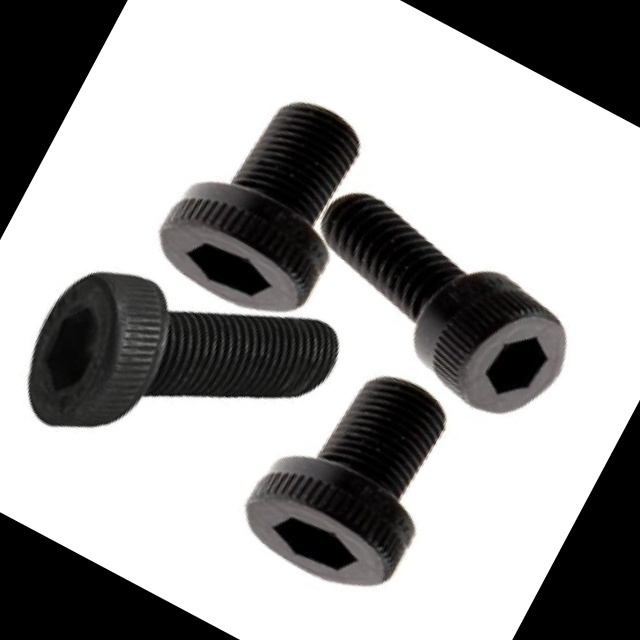allen: (3, 255, 184, 453), (146, 193, 320, 331), (235, 467, 407, 606), (434, 277, 585, 434)
